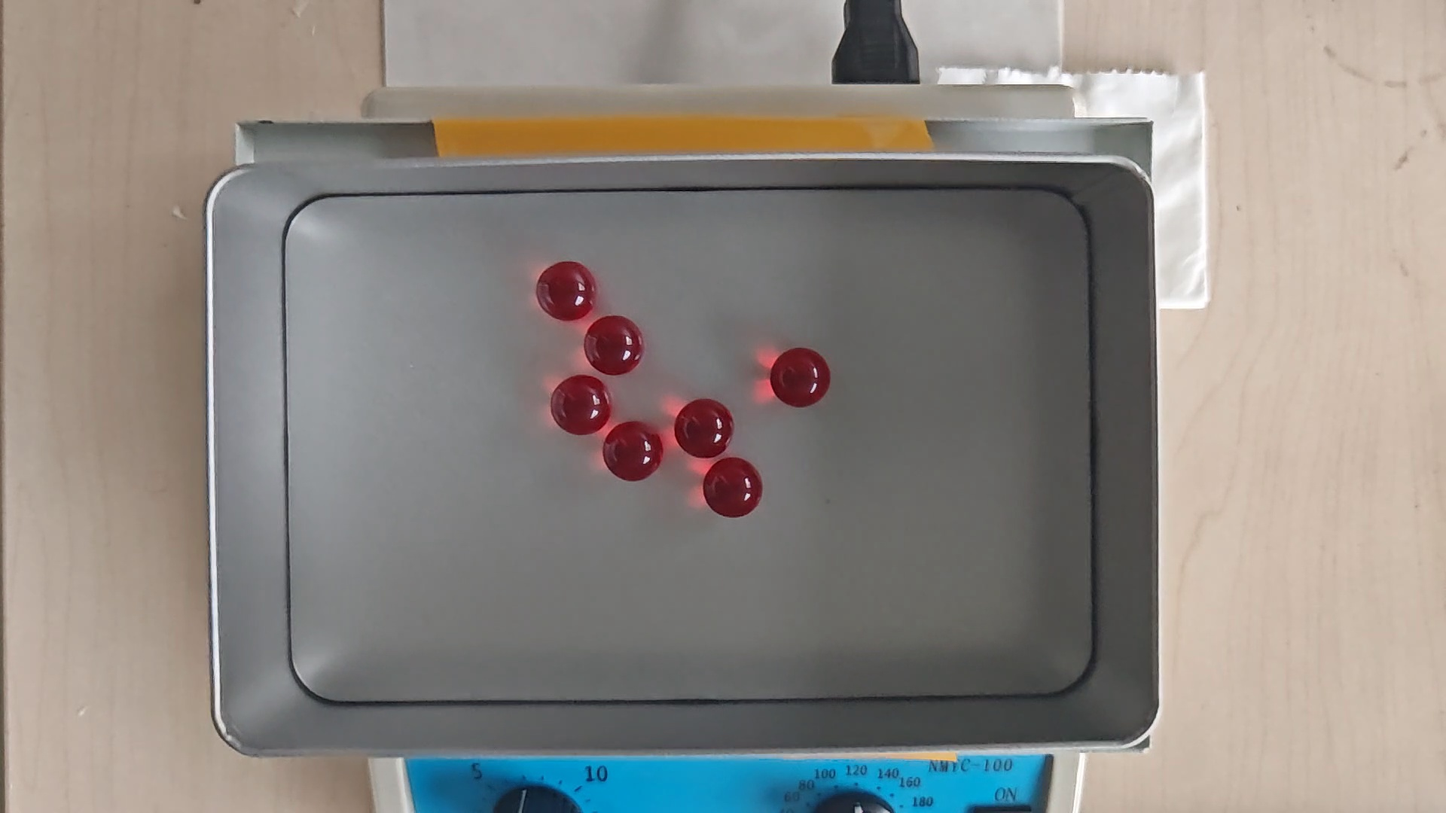ball: (770, 346, 833, 410), (601, 422, 665, 483), (583, 315, 646, 376), (703, 455, 764, 518), (674, 397, 735, 459), (551, 376, 612, 437), (535, 261, 596, 321)
container: (282, 190, 1092, 697)
